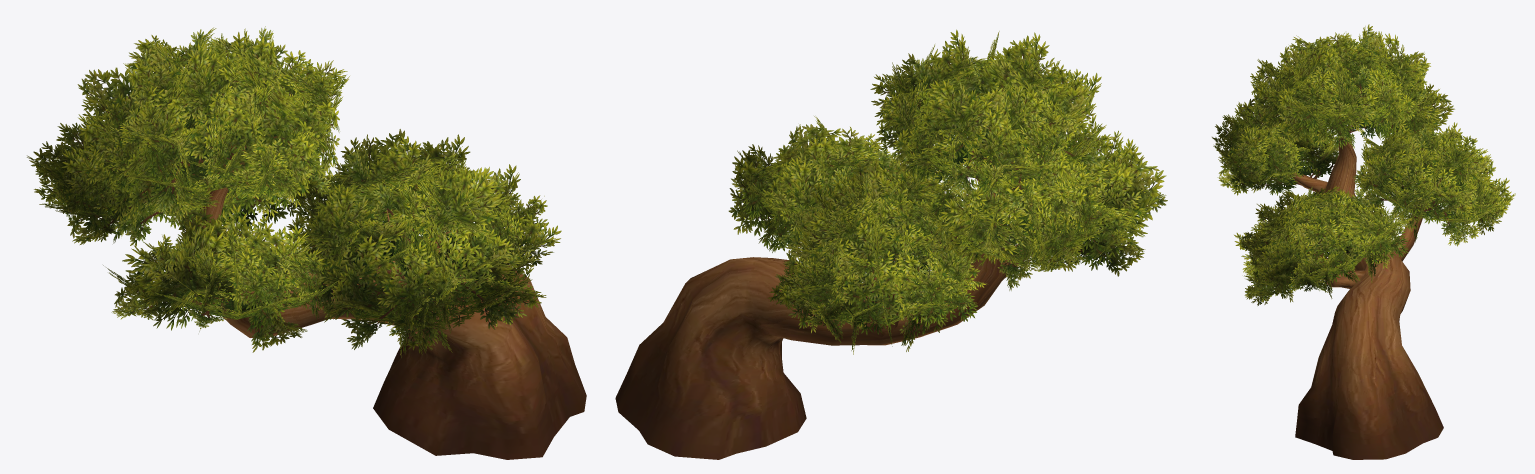
3 views of the same model, side by side, from view 1: azimuth 30°, elevation 25°; view 2: azimuth 150°, elevation 25°; view 3: azimuth 270°, elevation 25° (orthographic). The views are drawn at different scales.
Bounding box in the file's own units: 37.12 × 32.45 × 28.76.
Materials: 2 (2 with a texture image).
